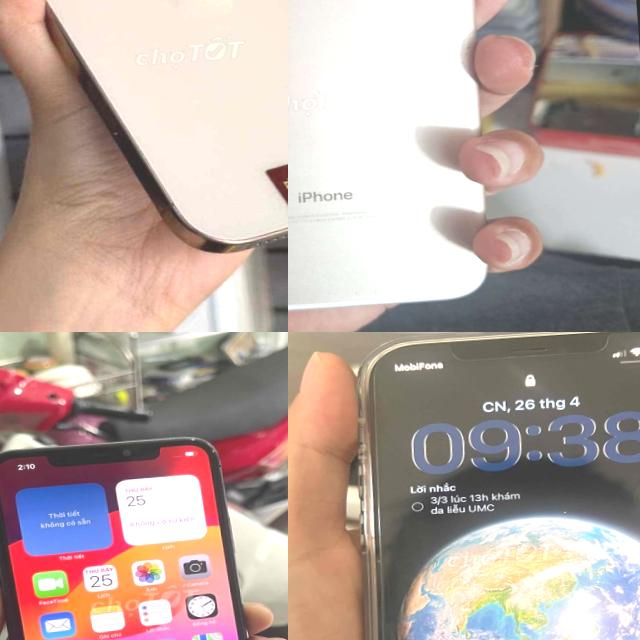gen_11: (0, 438, 248, 640)
gen_12_13: (332, 332, 640, 640)
gen_16: (0, 0, 288, 273)
gen_7_8: (288, 0, 517, 332)
scratch: (178, 429, 214, 461)
